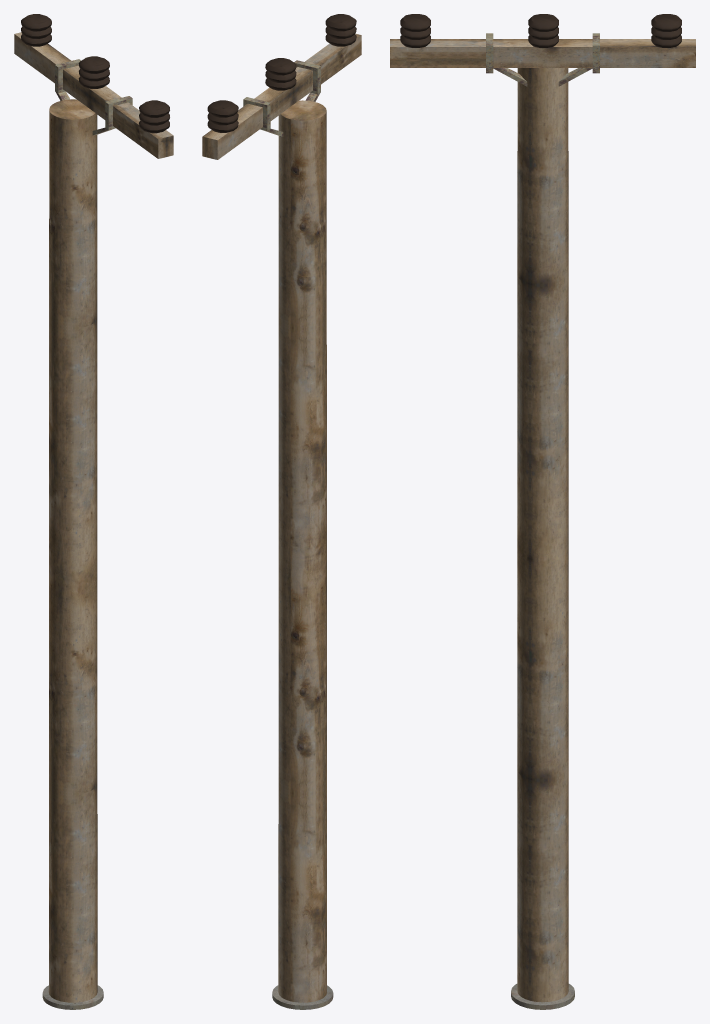
The model's file is E_Pole01.fbx.
The picture shows the model from 3 angles, left to right: view 1: azimuth 30°, elevation 25°; view 2: azimuth 150°, elevation 25°; view 3: azimuth 270°, elevation 25°; orthographic projection. The views are drawn at different scales.
Parts seen in each view (by area): view 1: Cylinder (20); view 2: Cylinder (20); view 3: Cylinder (20).
Part boxes in pixels (left/top/right/bottom): Cylinder (20): left=14, top=14, right=173, bottom=1009; Cylinder (20): left=202, top=14, right=361, bottom=1009; Cylinder (20): left=390, top=14, right=695, bottom=1009.
Size of the model in its own units: 88.28 by 1282 by 359.
